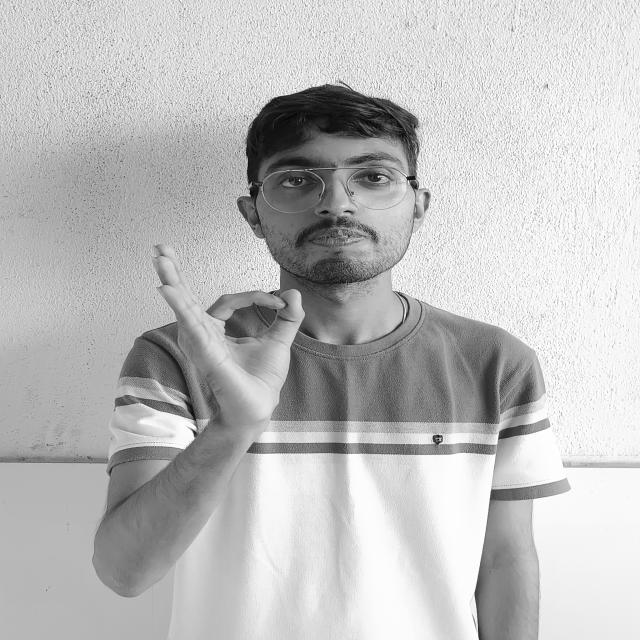Superb: (123, 228, 334, 445)
